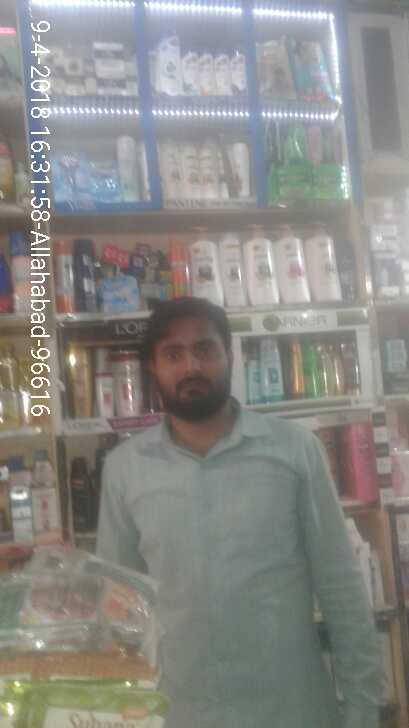venus: (56, 147, 85, 202), (90, 162, 118, 197)
